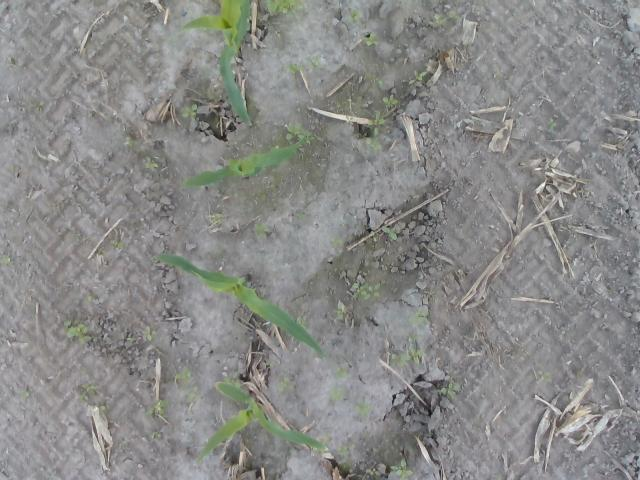Maize: (152, 252, 332, 364), (156, 3, 254, 128), (196, 380, 328, 466), (180, 138, 307, 194)
Weeds: (364, 112, 386, 153), (64, 322, 90, 348), (384, 350, 423, 366), (284, 124, 313, 145), (286, 60, 324, 76), (124, 326, 154, 346), (266, 2, 304, 17), (354, 281, 382, 301), (428, 12, 459, 28), (392, 460, 414, 480), (146, 400, 167, 420), (182, 386, 199, 408), (332, 445, 352, 463), (332, 302, 347, 325), (172, 368, 192, 385), (76, 388, 100, 402), (408, 312, 427, 329), (382, 227, 399, 245), (180, 105, 199, 121), (355, 400, 370, 420), (442, 382, 457, 402), (143, 156, 158, 172), (328, 390, 347, 402), (382, 96, 398, 110), (410, 72, 426, 86), (280, 378, 296, 392), (212, 212, 224, 230), (364, 469, 383, 480), (538, 369, 554, 382), (254, 222, 270, 234), (362, 34, 377, 46), (23, 102, 44, 110), (338, 366, 351, 378), (297, 316, 308, 330), (112, 240, 126, 250), (548, 118, 557, 132), (124, 138, 136, 148), (100, 402, 108, 414), (1, 255, 10, 265), (352, 8, 360, 18), (300, 214, 310, 222), (375, 78, 384, 86)
